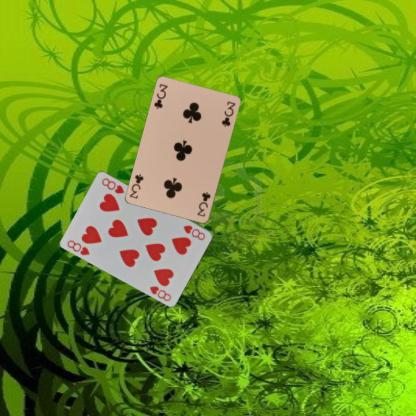3c: (152, 82, 170, 110), (195, 189, 212, 218)
8h: (181, 223, 206, 242), (65, 238, 91, 256)
